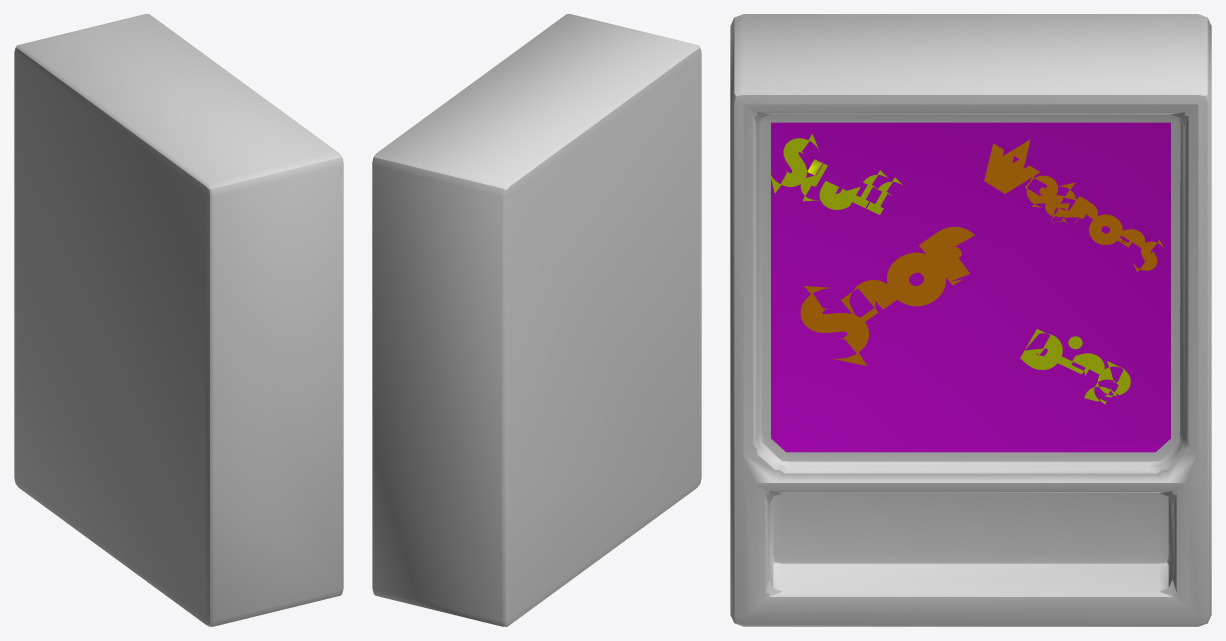
Rendered from vending shop.fbx.
The picture shows the model from 3 angles, left to right: view 1: azimuth 30°, elevation 25°; view 2: azimuth 150°, elevation 25°; view 3: azimuth 270°, elevation 25°; orthographic projection. The views are drawn at different scales.
Visible parts, largest first — view 1: Cube; view 2: Cube; view 3: Cube.
Part boxes in pixels (bbox=[...]): Cube: bbox=[14, 14, 343, 626]; Cube: bbox=[372, 14, 701, 626]; Cube: bbox=[730, 14, 1211, 626].
Size of the model in its own units: 78.95 by 246 by 200.
